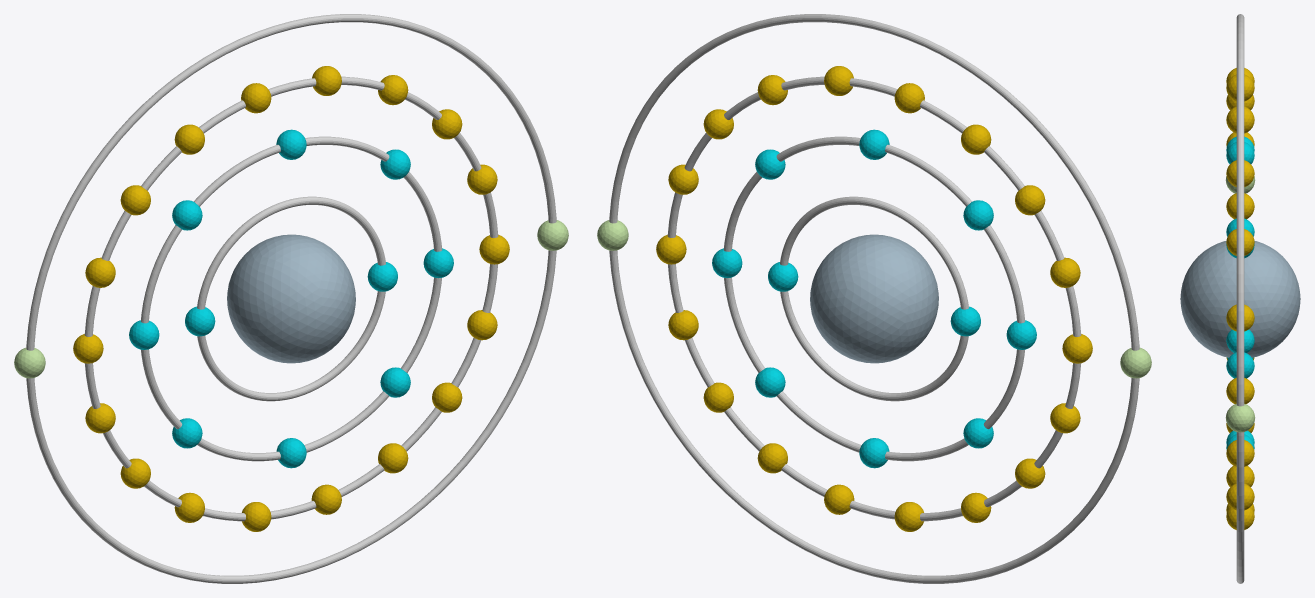
3 renders of one model, left to right at view 1: azimuth 30°, elevation 25°; view 2: azimuth 150°, elevation 25°; view 3: azimuth 270°, elevation 25°, orthographic. The views are drawn at different scales.
Visible parts, largest first — view 1: Camada_4, Nucleo_Zn, Camada_3, Camada_2, Camada_1, e4_2, e4_1, e2_4, e2_8, e3_8, e3_17, e3_7 (+23 smaller); view 2: Camada_4, Nucleo_Zn, Camada_3, Camada_2, Camada_1, e4_2, e4_1, e2_4, e2_8, e3_8, e3_17, e3_7 (+23 smaller); view 3: Nucleo_Zn, Camada_4, e4_1, e3_3, e3_18, e3_2, e3_5, e3_17, e3_4, e3_6, e2_1, e3_1 (+7 smaller).
Boxes of the visible parts, left/top/right/bottom form: Camada_4: left=26, top=14, right=556, bottom=583; Nucleo_Zn: left=227, top=234, right=355, bottom=363; Camada_3: left=84, top=76, right=498, bottom=521; Camada_2: left=140, top=136, right=442, bottom=461; Camada_1: left=197, top=196, right=385, bottom=401; e4_2: left=14, top=347, right=45, bottom=378; e4_1: left=537, top=220, right=568, bottom=250; e2_4: left=172, top=200, right=202, bottom=230; e2_8: left=380, top=367, right=410, bottom=397; e3_8: left=120, top=185, right=150, bottom=215; e3_17: left=432, top=382, right=462, bottom=412; e3_7: left=174, top=124, right=204, bottom=154; Camada_4: left=609, top=14, right=1139, bottom=583; Nucleo_Zn: left=810, top=234, right=938, bottom=363; Camada_3: left=667, top=76, right=1081, bottom=521; Camada_2: left=723, top=136, right=1025, bottom=461; Camada_1: left=780, top=196, right=968, bottom=401; e4_2: left=1120, top=347, right=1151, bottom=378; e4_1: left=597, top=220, right=628, bottom=250; e2_4: left=963, top=200, right=993, bottom=230; e2_8: left=755, top=367, right=785, bottom=397; e3_8: left=1015, top=185, right=1045, bottom=215; e3_17: left=703, top=382, right=733, bottom=412; e3_7: left=961, top=124, right=991, bottom=154; Nucleo_Zn: left=1180, top=240, right=1300, bottom=357; Camada_4: left=1236, top=14, right=1244, bottom=583; e4_1: left=1225, top=404, right=1255, bottom=432; e3_3: left=1226, top=229, right=1254, bottom=255; e3_18: left=1226, top=440, right=1254, bottom=466; e3_2: left=1226, top=304, right=1254, bottom=331; e3_5: left=1226, top=106, right=1254, bottom=133; e3_17: left=1226, top=483, right=1254, bottom=510; e3_4: left=1226, top=160, right=1254, bottom=186; e3_6: left=1226, top=74, right=1254, bottom=101; e2_1: left=1226, top=352, right=1254, bottom=378; e3_1: left=1226, top=378, right=1254, bottom=403.
Bounding box in the file's own units: 2.17 × 2.09 × 0.44.
